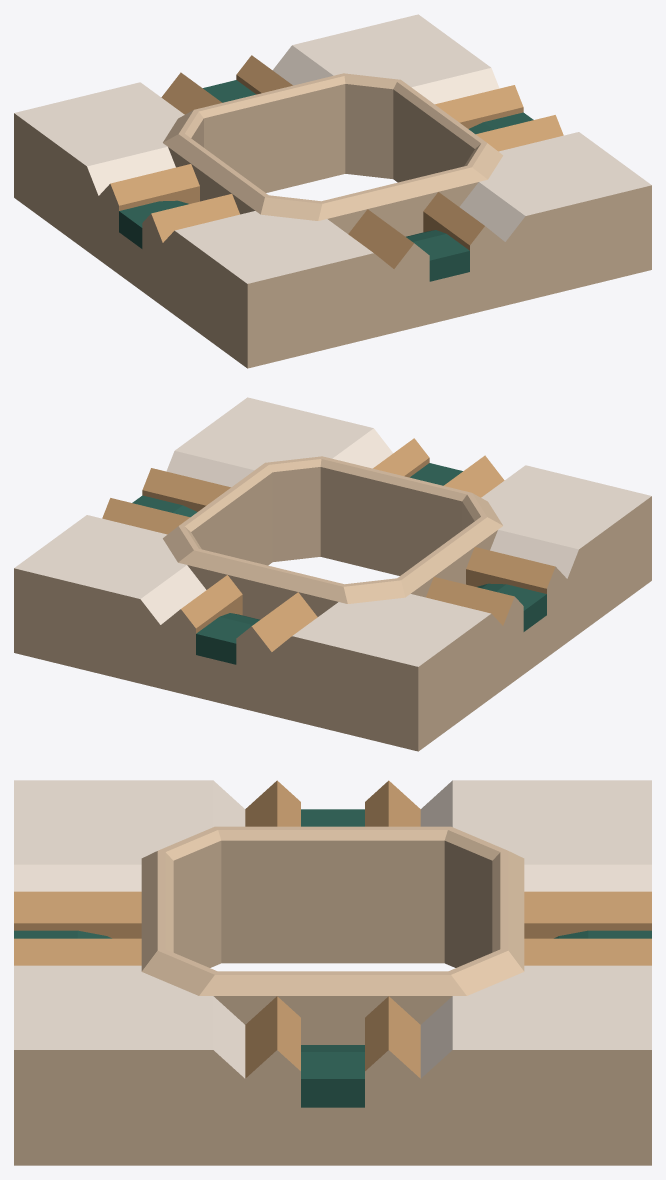
The model's file is Puzzle_Floor_Conduit_Control_Housing_Cross.fbx.
The picture shows the model from 3 angles, top to bottom: view 1: azimuth 30°, elevation 25°; view 2: azimuth 150°, elevation 25°; view 3: azimuth 270°, elevation 25°; orthographic projection. The views are drawn at different scales.
Visible parts, largest first — view 1: Sandstone_Trim.Sandstone_Trim.Sandstone_Trim.Sandstone_Trim., Sandstone_Floor.Sandstone_Floor.Sandstone_Floor.Sandstone_Fl, Sandstone_5.Sandstone_5.Sandstone_5.Sandstone_5.Sandstone_5., object2, object4, object1, object3; view 2: Sandstone_Trim.Sandstone_Trim.Sandstone_Trim.Sandstone_Trim., Sandstone_Floor.Sandstone_Floor.Sandstone_Floor.Sandstone_Fl, Sandstone_5.Sandstone_5.Sandstone_5.Sandstone_5.Sandstone_5., object1, object4, object2, object3; view 3: Sandstone_Trim.Sandstone_Trim.Sandstone_Trim.Sandstone_Trim., Sandstone_Floor.Sandstone_Floor.Sandstone_Floor.Sandstone_Fl, Sandstone_5.Sandstone_5.Sandstone_5.Sandstone_5.Sandstone_5., object3, object4, object1, object2.
Part boxes in pixels (bbox=[...]): Sandstone_Trim.Sandstone_Trim.Sandstone_Trim.Sandstone_Trim.: bbox=[14, 73, 651, 368]; Sandstone_Floor.Sandstone_Floor.Sandstone_Floor.Sandstone_Fl: bbox=[14, 14, 651, 283]; Sandstone_5.Sandstone_5.Sandstone_5.Sandstone_5.Sandstone_5.: bbox=[110, 55, 563, 268]; object2: bbox=[406, 230, 469, 281]; object4: bbox=[119, 200, 188, 248]; object1: bbox=[203, 80, 255, 102]; object3: bbox=[468, 112, 533, 134]; Sandstone_Trim.Sandstone_Trim.Sandstone_Trim.Sandstone_Trim.: bbox=[14, 456, 651, 751]; Sandstone_Floor.Sandstone_Floor.Sandstone_Floor.Sandstone_Fl: bbox=[14, 397, 651, 666]; Sandstone_5.Sandstone_5.Sandstone_5.Sandstone_5.Sandstone_5.: bbox=[102, 438, 555, 651]; object1: bbox=[196, 613, 259, 664]; object4: bbox=[477, 583, 546, 631]; object2: bbox=[410, 463, 462, 485]; object3: bbox=[132, 495, 197, 517]; Sandstone_Trim.Sandstone_Trim.Sandstone_Trim.Sandstone_Trim.: bbox=[14, 826, 651, 1165]; Sandstone_Floor.Sandstone_Floor.Sandstone_Floor.Sandstone_Fl: bbox=[14, 780, 651, 1078]; Sandstone_5.Sandstone_5.Sandstone_5.Sandstone_5.Sandstone_5.: bbox=[14, 780, 651, 1078]; object3: bbox=[301, 1045, 364, 1107]; object4: bbox=[301, 809, 364, 826]; object1: bbox=[554, 930, 651, 938]; object2: bbox=[14, 930, 111, 938].
Size of the model in its own units: 1 by 0.225 by 1.
